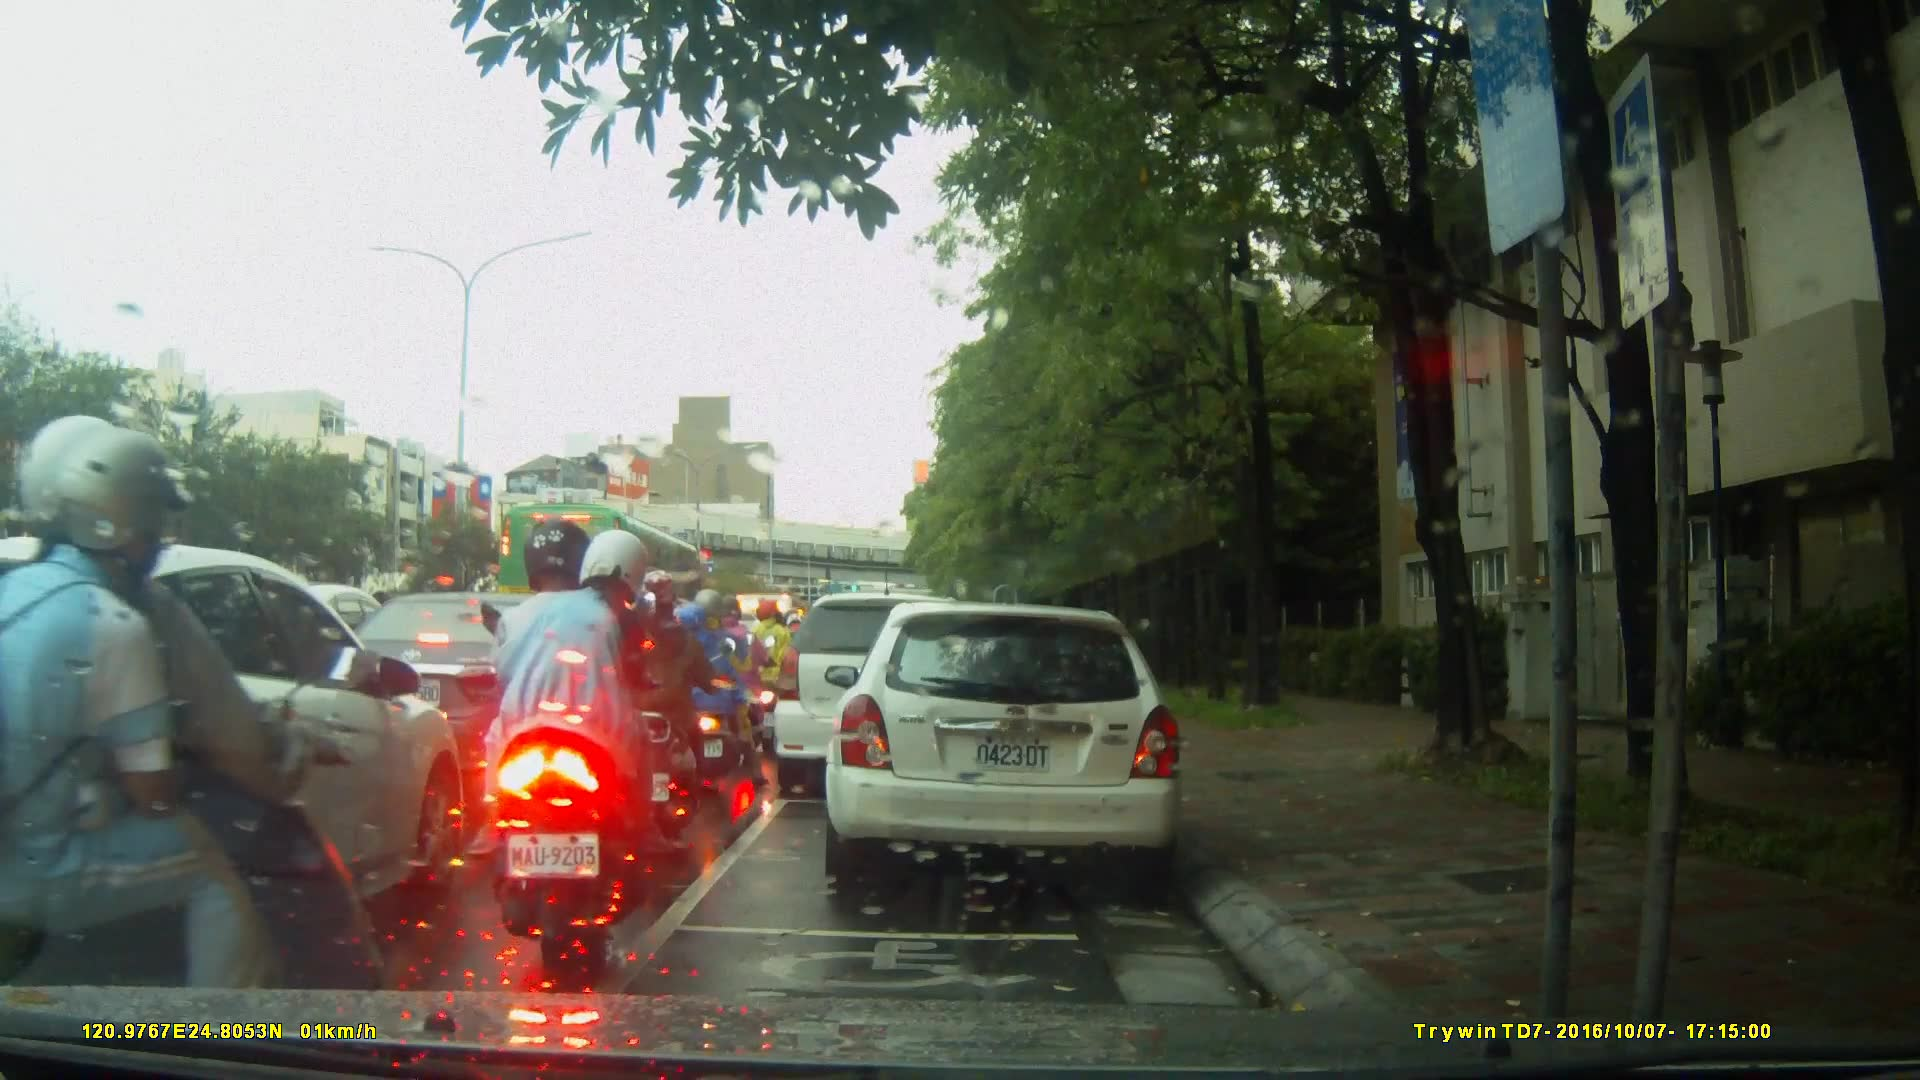rider: (1, 412, 409, 1080), (485, 518, 681, 967), (618, 573, 736, 838), (668, 588, 752, 789), (700, 598, 772, 764), (745, 598, 798, 742)
vehicle: (3, 536, 463, 988), (831, 592, 1196, 897), (312, 589, 629, 776), (771, 590, 999, 803), (496, 500, 711, 636)
